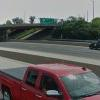Car: (4, 52, 100, 100)
